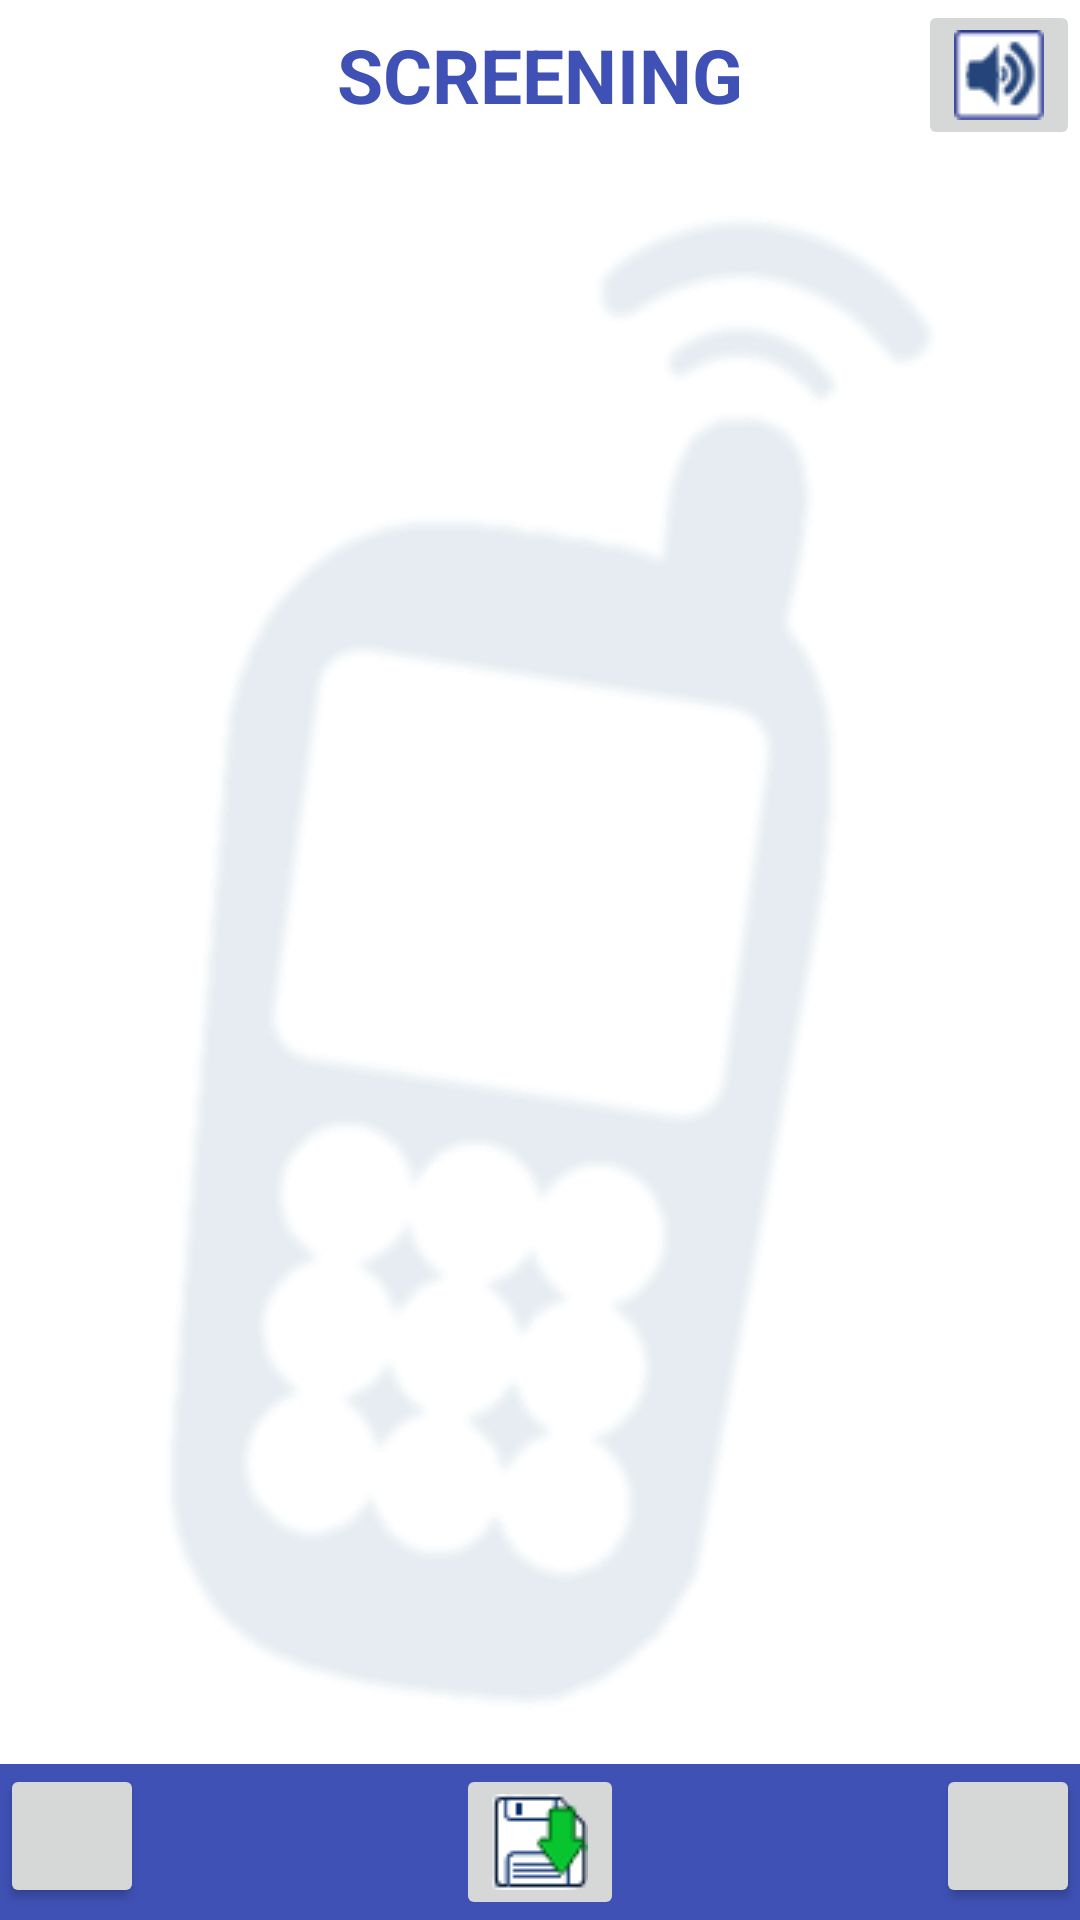

Named icons in this screenshot (1080*1920) and their centers, [x,y]:
save: [540,1842]
speaker on: [999,75]
